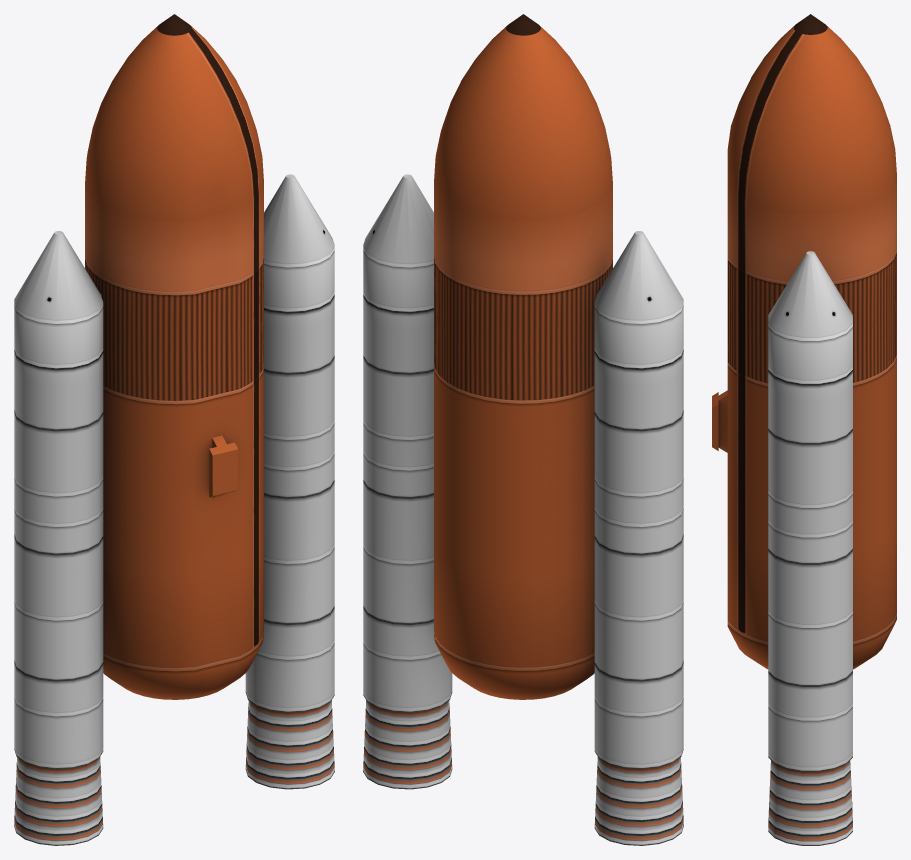
The model's file is rocket1.glb.
3 renders of one model, left to right at view 1: azimuth 30°, elevation 25°; view 2: azimuth 150°, elevation 25°; view 3: azimuth 270°, elevation 25°, orthographic. The views are drawn at different scales.
Visible parts, largest first — view 1: gas_tank.1; view 2: gas_tank.1; view 3: gas_tank.1.
Part boxes in pixels (x1,y1,x2,y2): gas_tank.1: (14,14,334,845); gas_tank.1: (363,14,683,845); gas_tank.1: (712,14,896,845).
Size of the model in its own units: 0.2875 by 0.7011 by 0.1547.
1 material, 1 textured.
